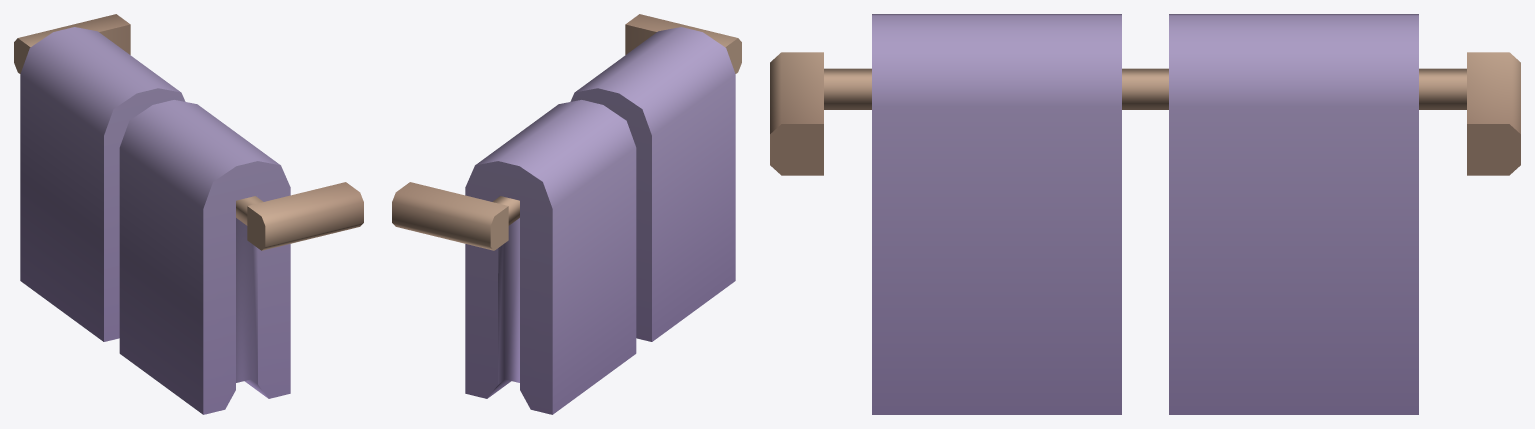
Rendered from towel-rack-towel-medium (%wall).glb.
3 renders of one model, left to right at view 1: azimuth 30°, elevation 25°; view 2: azimuth 150°, elevation 25°; view 3: azimuth 270°, elevation 25°, orthographic. The views are drawn at different scales.
Parts seen in each view (by area): view 1: towel-rack-towel-medium (%wall); view 2: towel-rack-towel-medium (%wall); view 3: towel-rack-towel-medium (%wall).
Part boxes in pixels (x1=…): towel-rack-towel-medium (%wall): x1=14, y1=14, x2=363, y2=414; towel-rack-towel-medium (%wall): x1=392, y1=14, x2=741, y2=414; towel-rack-towel-medium (%wall): x1=770, y1=14, x2=1520, y2=414.
Size of the model in its own units: 0.1924 by 0.35 by 0.6625.
